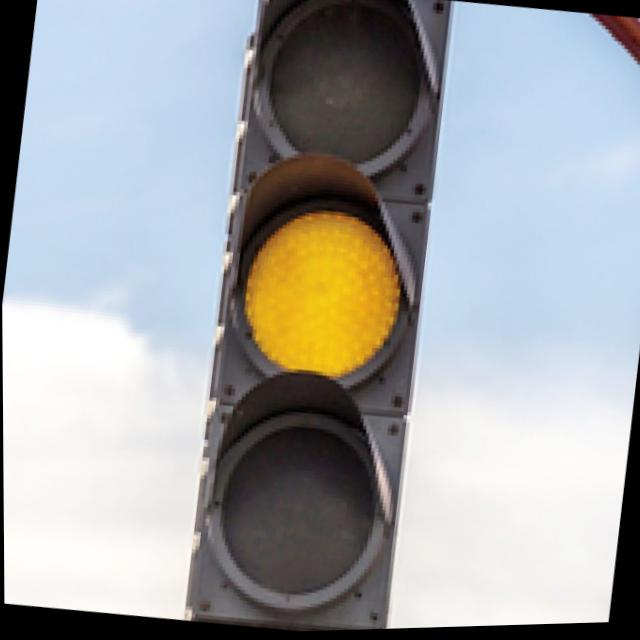yellow_light: (185, 163, 491, 411)
